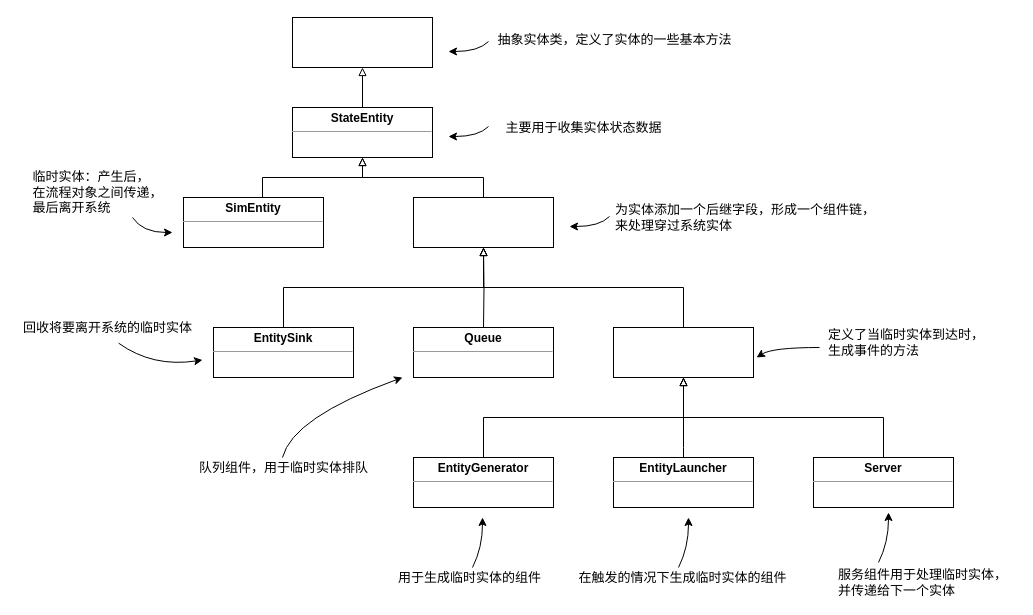
The diagram is 1033 pixels wide and 615 high, and some of its shapes have lost their labels. Each missing label, with the centre of its shape:
"Entity" belongs at pixel 362 42.
"LinkedComponent" belongs at pixel 483 222.
"LinkedService" belongs at pixel 683 352.
